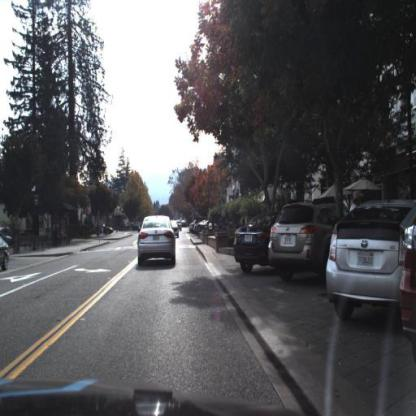car: (324, 194, 416, 321), (328, 207, 404, 312), (263, 200, 340, 286), (131, 208, 178, 270), (232, 214, 270, 275)
